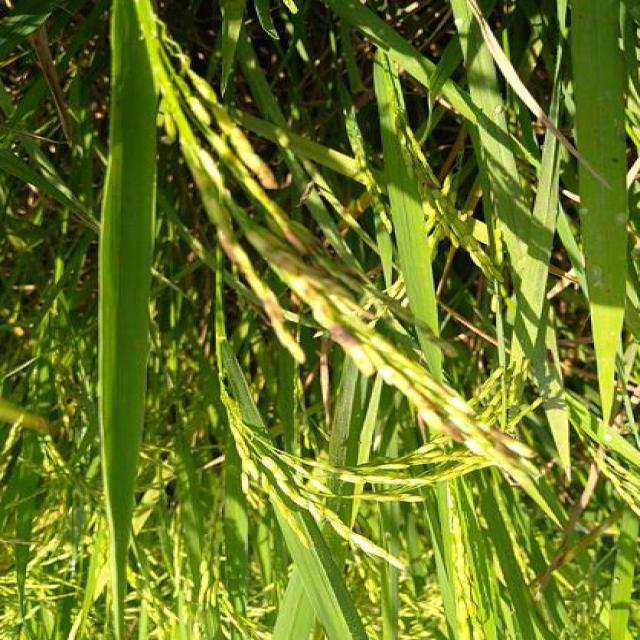Panicle Blight: (247, 227, 547, 478), (216, 228, 308, 363), (222, 113, 277, 188)
